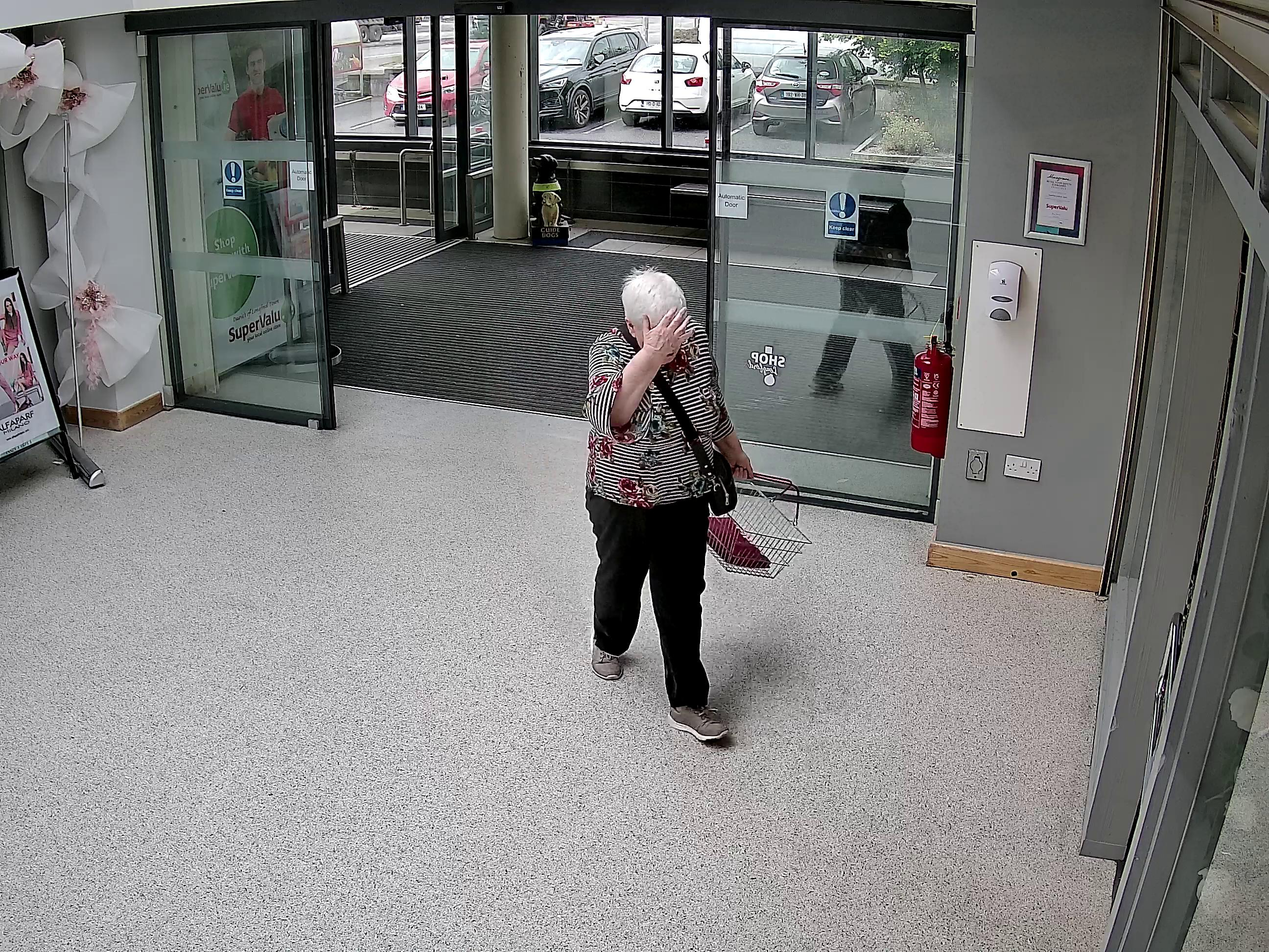backpack-or-handbag: (702, 451, 738, 516)
empty-basket: (707, 467, 812, 578)
person: (583, 268, 754, 746)
person-with-basket-trolly-and-backpack-handbag: (583, 267, 812, 747)
